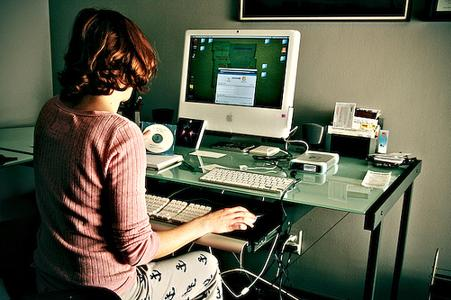person: (30, 8, 258, 300)
